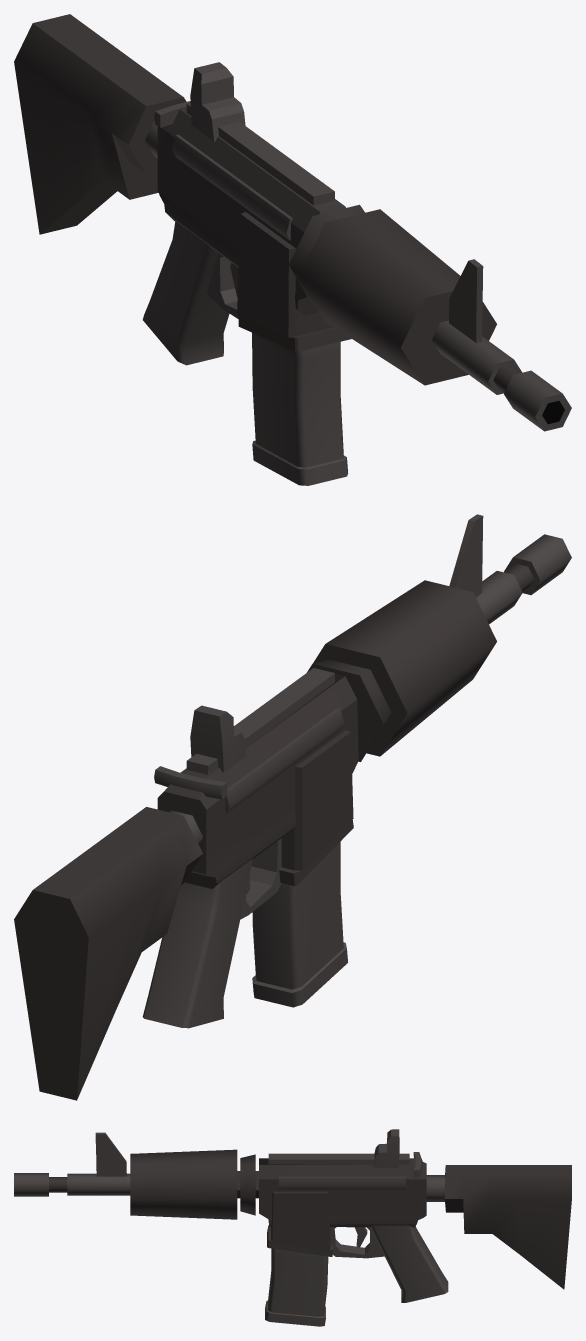
3 renders of one model, top to bottom at view 1: azimuth 30°, elevation 25°; view 2: azimuth 150°, elevation 25°; view 3: azimuth 270°, elevation 25°, orthographic. The views are drawn at different scales.
Parts seen in each view (by area): view 1: M4, M4Magazine; view 2: M4, M4Magazine; view 3: M4, M4Magazine.
Boxes of the visible parts, x1=… form: M4: x1=14, y1=14, x2=571, y2=431; M4Magazine: x1=252, y1=332, x2=348, y2=485; M4: x1=14, y1=514, x2=571, y2=1100; M4Magazine: x1=252, y1=842, x2=347, y2=1007; M4: x1=14, y1=1129, x2=571, y2=1302; M4Magazine: x1=265, y1=1248, x2=328, y2=1326.
Bounding box in the file's own units: 12.03 × 35.49 × 95.44.
